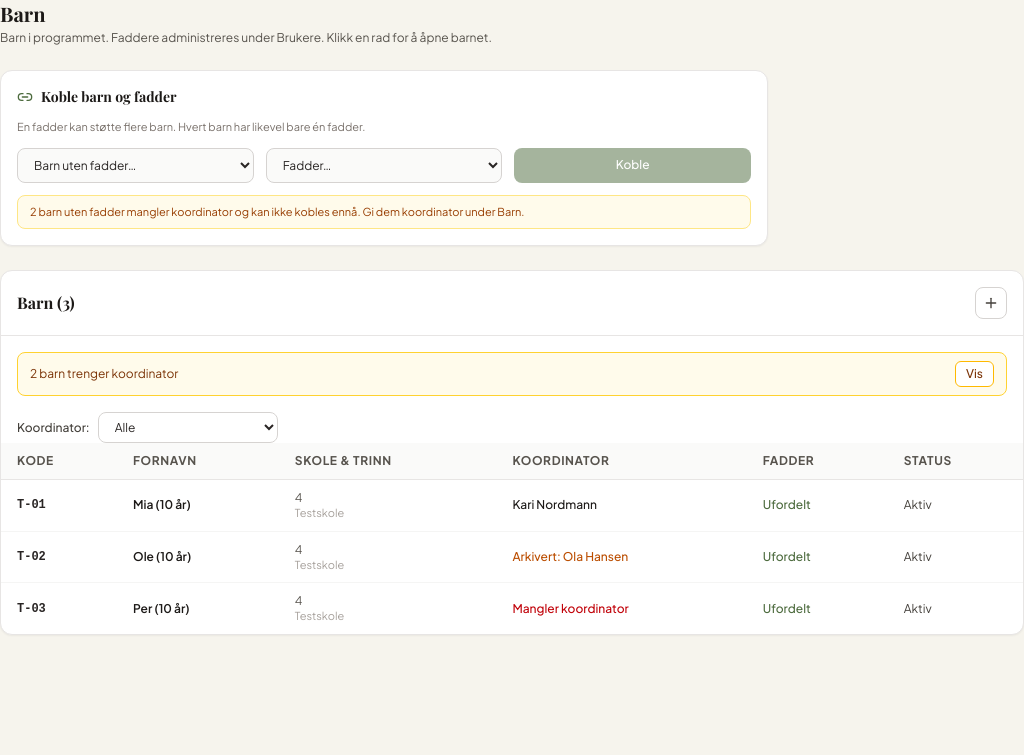
Legg til barn: koordinator må velges › Lagre barn er deaktivert til koordinator er valgt, og bare aktive koordinatorer listes
Click the button named "Legg til barn".
click(991, 303)  # box [975, 287, 1007, 319]
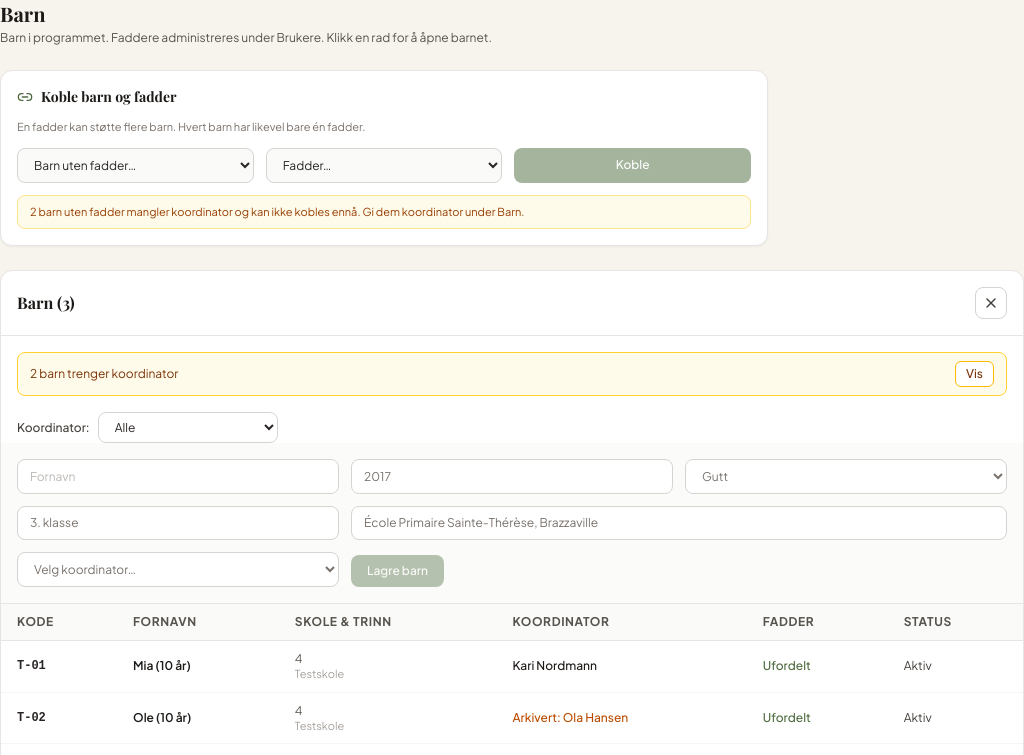
Expected: the dropdown named "Koordinator for nytt barn" shows "Velg koordinator…"
Expected: the button "Lagre barn" is disabled, [351, 555, 444, 587]
Select "Kari Nordmann" in the dropdown named "Koordinator for nytt barn" at (178, 570), box [17, 552, 339, 587]
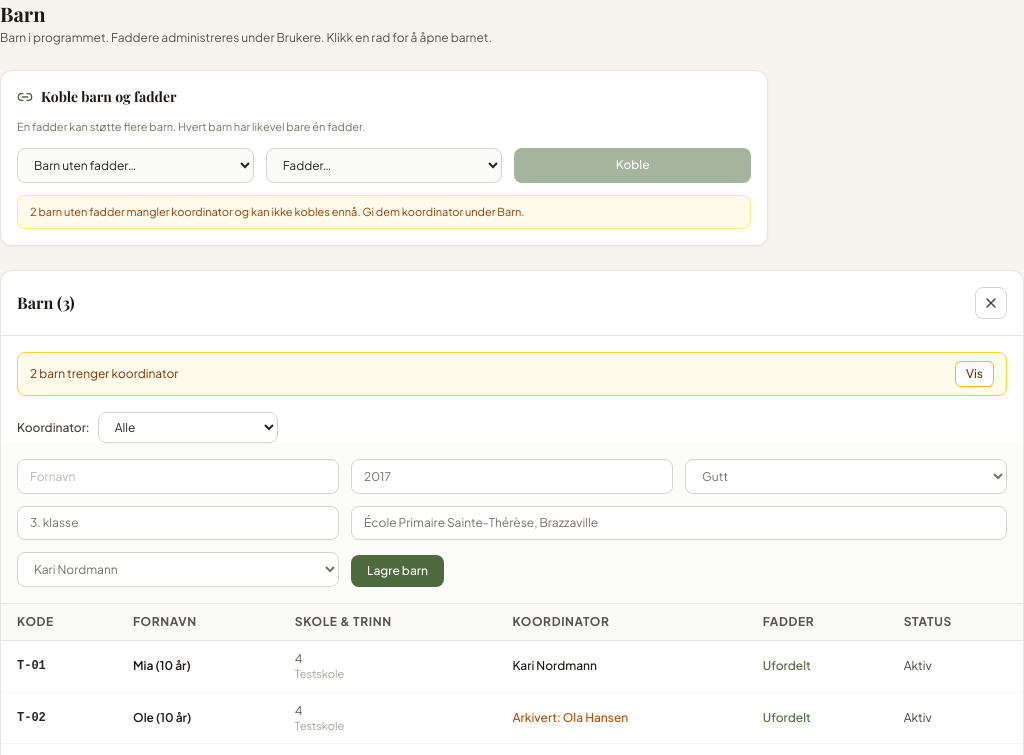
Expected: the button "Lagre barn" is enabled, [351, 555, 444, 587]
